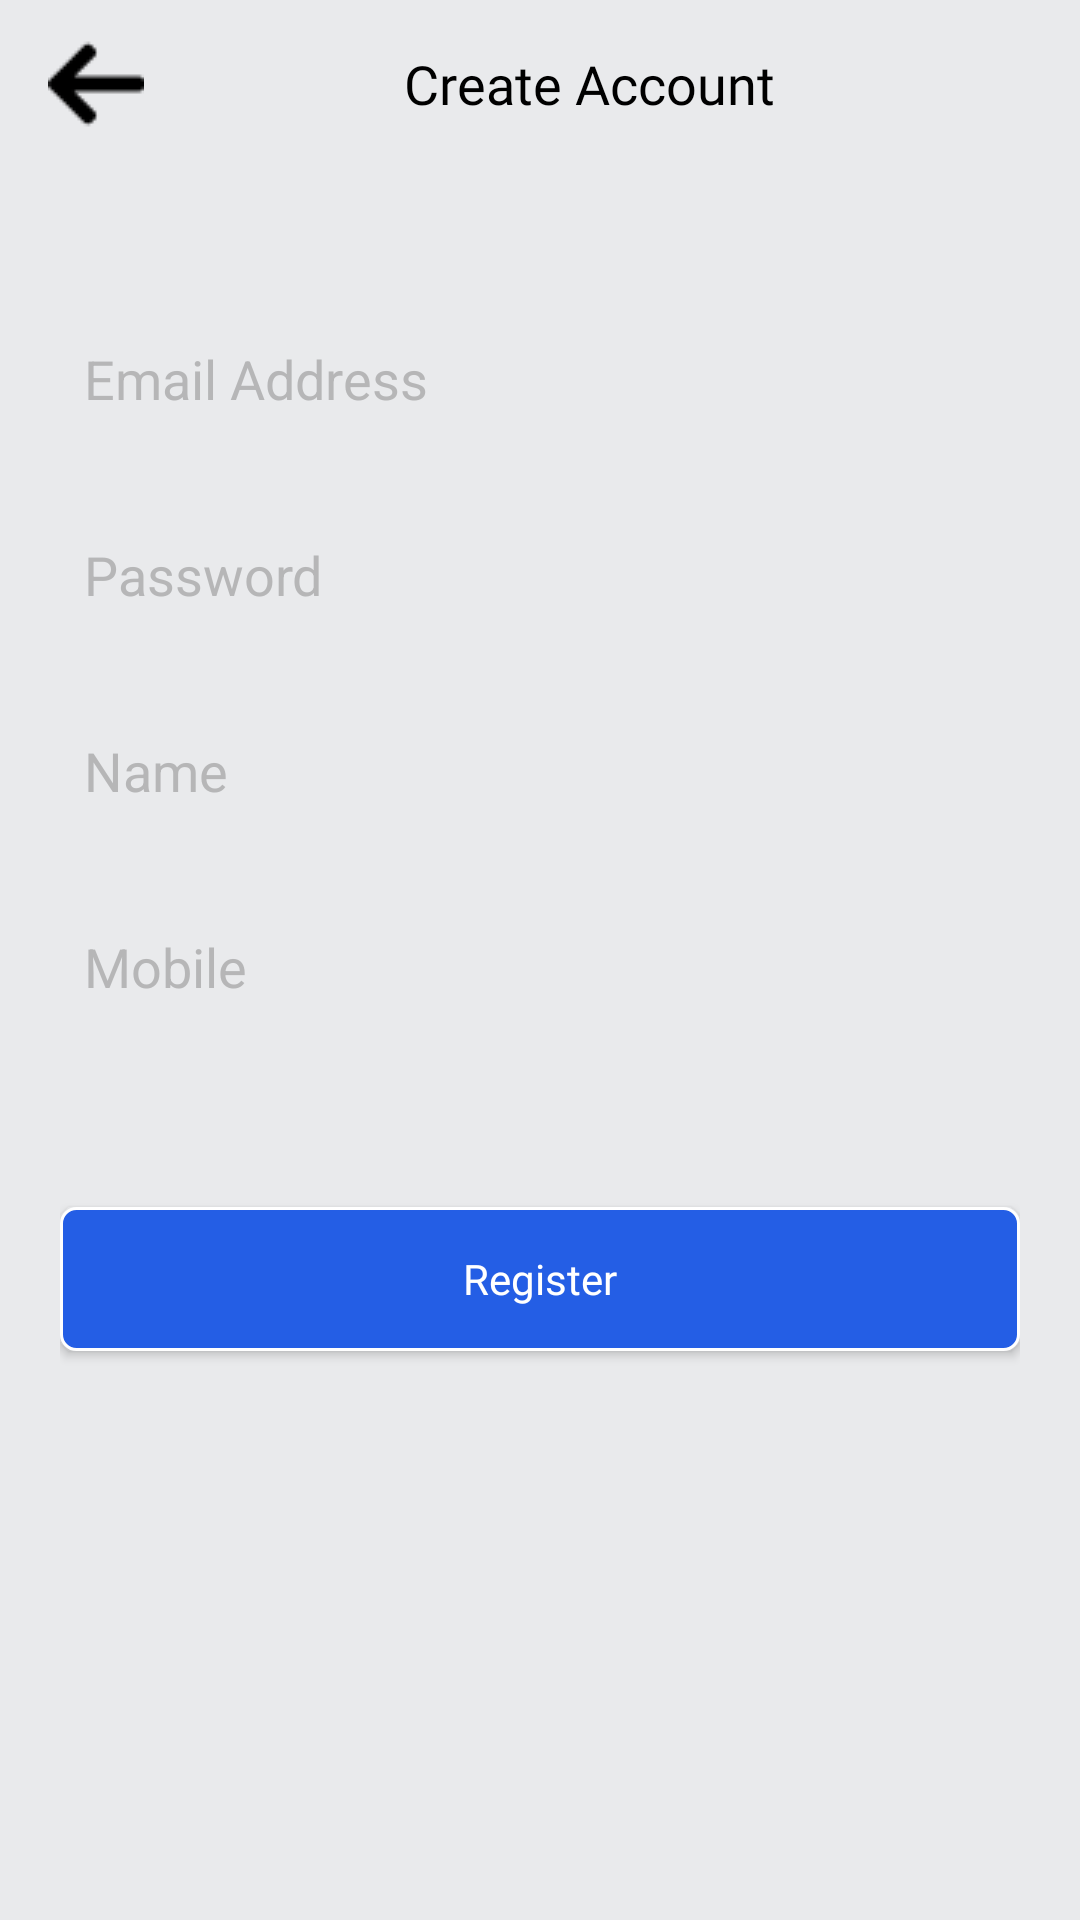

Where icons sit on this 1080w x 1920h app screen, as (x1, y1, x2, y2):
back arrow: (48, 42, 144, 126)
